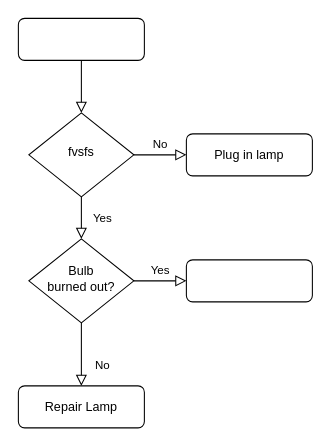
The diagram is 331 pixels wide and 446 high, and some of its shapes have lost their labels. Each missing label, with the centre of its shape:
dfcscff: point (80, 38)
Replace Bulb: point (248, 280)
